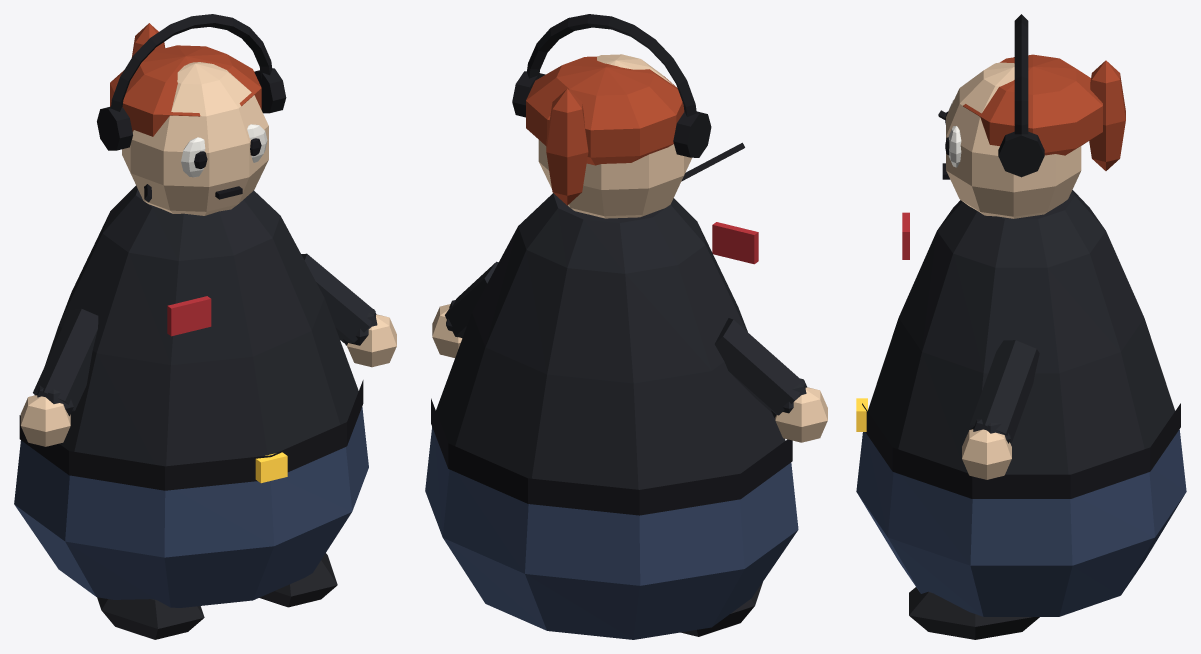
The model's file is npc_tecnica.glb.
3 renders of one model, left to right at view 1: azimuth 30°, elevation 25°; view 2: azimuth 150°, elevation 25°; view 3: azimuth 270°, elevation 25°, orthographic. The views are drawn at different scales.
Parts seen in each view (by area): view 1: body_tech_polo, body_tech_jeans, head_skin_crema, body_black, arms_tech_polo, head_tech_hair_red, head_headset, legs_tech_shoes, arms_skin_crema, props_tv_red, face_white, body_gold (+1 smaller); view 2: body_tech_polo, body_tech_jeans, head_tech_hair_red, body_black, head_skin_crema, head_headset, arms_tech_polo, arms_skin_crema, props_tv_red, legs_tech_shoes; view 3: body_tech_polo, body_tech_jeans, head_tech_hair_red, head_skin_crema, body_black, arms_tech_polo, head_headset, legs_tech_shoes, arms_skin_crema.
Part boxes in pixels (<box>): body_tech_polo: <box>44,185,358,466</box>; body_tech_jeans: <box>14,407,368,607</box>; head_skin_crema: <box>122,62,268,215</box>; body_black: <box>19,380,363,490</box>; arms_tech_polo: <box>33,253,377,416</box>; head_tech_hair_red: <box>110,23,261,136</box>; head_headset: <box>97,14,286,202</box>; legs_tech_shoes: <box>97,553,337,639</box>; arms_skin_crema: <box>20,314,396,446</box>; props_tv_red: <box>167,296,211,336</box>; face_white: <box>181,124,267,177</box>; body_gold: <box>255,452,287,483</box>; body_tech_polo: <box>436,193,785,489</box>; body_tech_jeans: <box>425,427,798,639</box>; head_tech_hair_red: <box>526,56,684,205</box>; body_black: <box>431,398,792,515</box>; head_skin_crema: <box>538,54,691,218</box>; head_headset: <box>512,14,744,181</box>; arms_tech_polo: <box>445,261,806,417</box>; arms_skin_crema: <box>432,304,827,442</box>; props_tv_red: <box>712,222,758,264</box>; legs_tech_shoes: <box>680,582,762,636</box>; body_tech_polo: <box>868,190,1174,474</box>; body_tech_jeans: <box>856,429,1186,616</box>; head_tech_hair_red: <box>963,54,1125,170</box>; head_skin_crema: <box>946,62,1081,218</box>; body_black: <box>862,403,1180,498</box>; arms_tech_polo: <box>969,340,1039,443</box>; head_headset: <box>938,14,1044,177</box>; legs_tech_shoes: <box>909,587,1039,639</box>; arms_skin_crema: <box>962,429,1011,479</box>.
Bounding box in the file's own units: 1.13 × 1.66 × 0.86.
